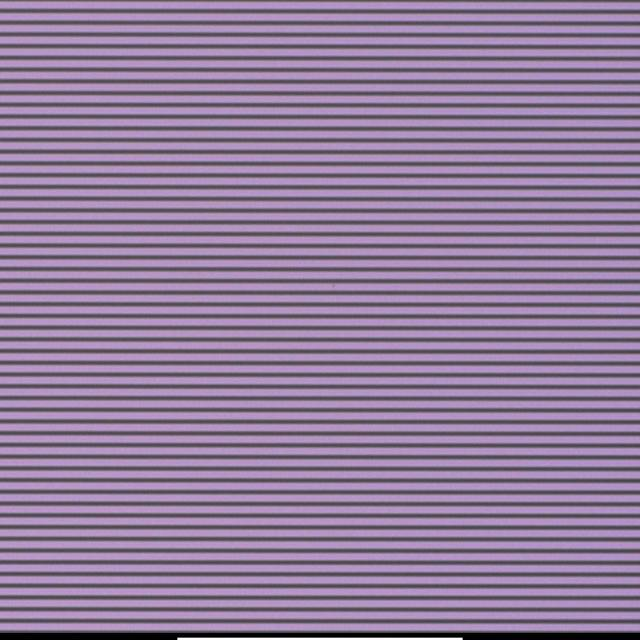nonvisual: (330, 282, 338, 293)
